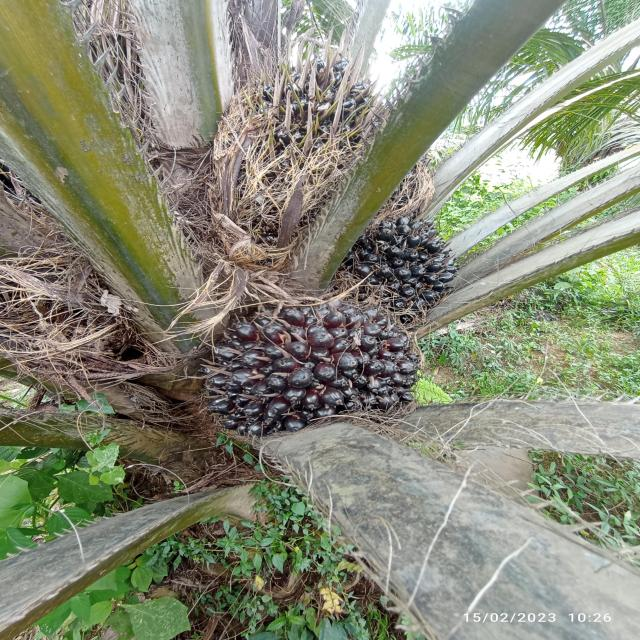fraksi 00: (168, 274, 436, 436), (357, 206, 476, 330)
